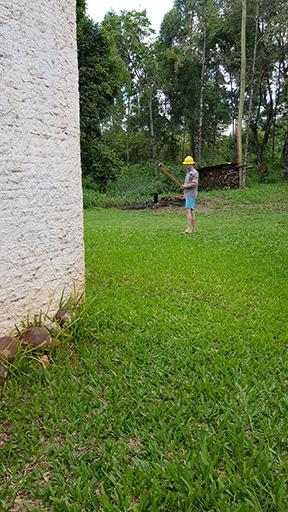Vara_Manobra: (160, 167, 184, 187)
